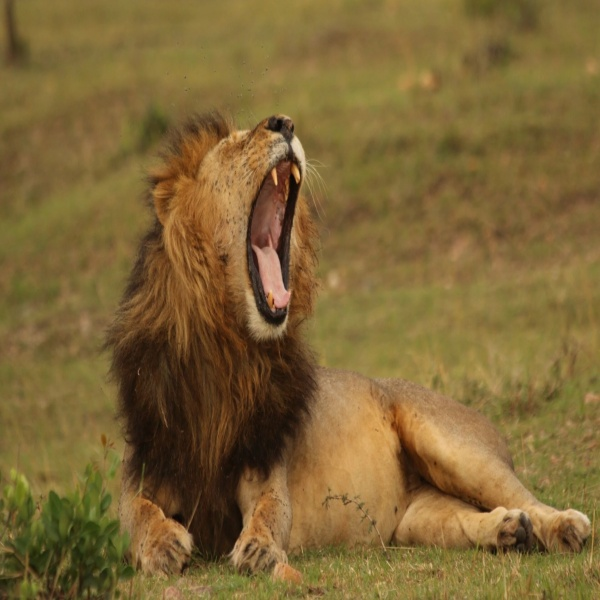Lion: (107, 105, 596, 580)
